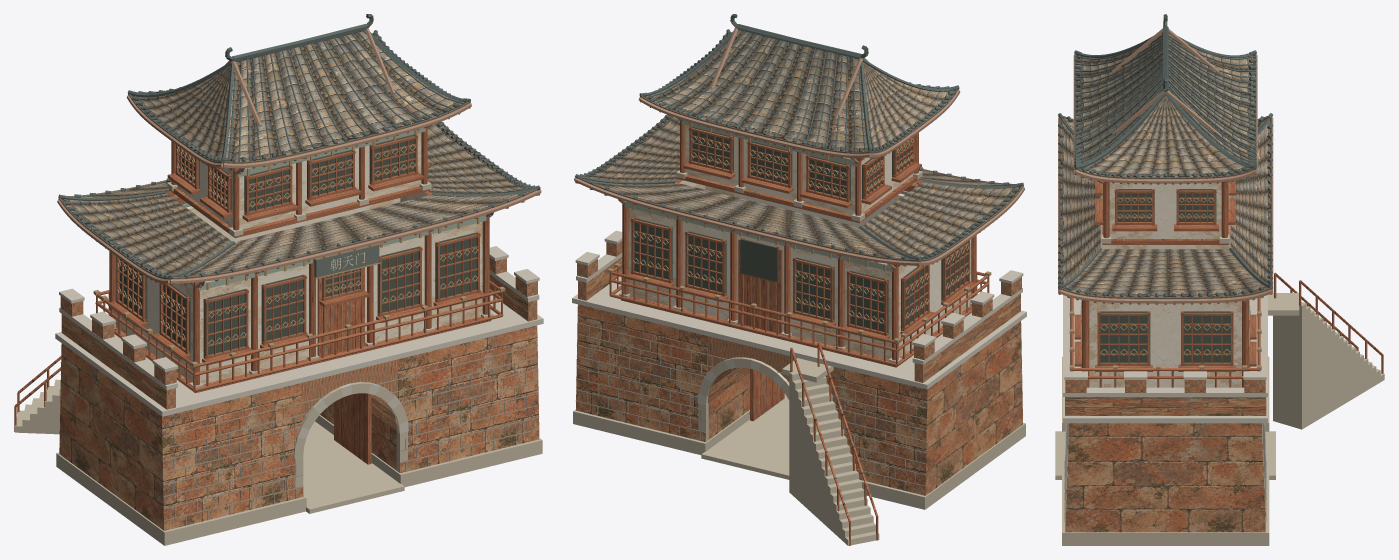
3 views of the same model, side by side, from view 1: azimuth 30°, elevation 25°; view 2: azimuth 150°, elevation 25°; view 3: azimuth 270°, elevation 25° (orthographic). The views are drawn at different scales.
Parts seen in each view (by area): view 1: chaotianmen__painted_city_brick, chaotianmen__painted_cedar, chaotianmen__painted_roof, chaotianmen__warm_limestone, chaotianmen__painted_plaster, chaotianmen__deep_recess, chaotianmen__tile_ridges, chaotianmen__stone_cap, chaotianmen__mortar_ink, chaotianmen__timber_highlight, chaotianmen__chibi_ink, chaotianmen__chibi_celadon (+1 smaller); view 2: chaotianmen__painted_city_brick, chaotianmen__painted_cedar, chaotianmen__painted_roof, chaotianmen__warm_limestone, chaotianmen__deep_recess, chaotianmen__painted_plaster, chaotianmen__tile_ridges, chaotianmen__stone_cap, chaotianmen__mortar_ink, chaotianmen__timber_highlight, chaotianmen__chibi_ink, chaotianmen__chibi_celadon; view 3: chaotianmen__painted_roof, chaotianmen__painted_city_brick, chaotianmen__painted_cedar, chaotianmen__warm_limestone, chaotianmen__tile_ridges, chaotianmen__painted_plaster, chaotianmen__deep_recess, chaotianmen__stone_cap, chaotianmen__chibi_ink, chaotianmen__timber_highlight, chaotianmen__mortar_ink.
Part boxes in pixels (left/top/right/bottom): chaotianmen__painted_city_brick: left=59, top=257, right=539, bottom=530; chaotianmen__painted_cedar: left=14, top=28, right=541, bottom=464; chaotianmen__painted_roof: left=61, top=31, right=529, bottom=276; chaotianmen__warm_limestone: left=15, top=181, right=542, bottom=545; chaotianmen__painted_plaster: left=115, top=133, right=482, bottom=384; chaotianmen__deep_recess: left=119, top=134, right=476, bottom=357; chaotianmen__tile_ridges: left=59, top=14, right=540, bottom=279; chaotianmen__stone_cap: left=55, top=246, right=543, bottom=438; chaotianmen__mortar_ink: left=59, top=345, right=539, bottom=525; chaotianmen__timber_highlight: left=93, top=84, right=505, bottom=366; chaotianmen__chibi_ink: left=58, top=33, right=540, bottom=431; chaotianmen__chibi_celadon: left=182, top=127, right=486, bottom=290; chaotianmen__painted_city_brick: left=576, top=241, right=1022, bottom=495; chaotianmen__painted_cedar: left=574, top=27, right=1024, bottom=545; chaotianmen__painted_roof: left=584, top=30, right=1021, bottom=259; chaotianmen__warm_limestone: left=573, top=170, right=1025, bottom=545; chaotianmen__deep_recess: left=634, top=126, right=966, bottom=334; chaotianmen__painted_plaster: left=628, top=125, right=971, bottom=359; chaotianmen__tile_ridges: left=575, top=14, right=1023, bottom=262; chaotianmen__stone_cap: left=572, top=230, right=1026, bottom=404; chaotianmen__mortar_ink: left=575, top=322, right=1022, bottom=490; chaotianmen__timber_highlight: left=607, top=79, right=991, bottom=343; chaotianmen__chibi_ink: left=575, top=32, right=1023, bottom=414; chaotianmen__chibi_celadon: left=625, top=120, right=908, bottom=272; chaotianmen__painted_roof: left=1060, top=34, right=1270, bottom=296; chaotianmen__painted_city_brick: left=1065, top=380, right=1266, bottom=532; chaotianmen__painted_cedar: left=1058, top=28, right=1383, bottom=387; chaotianmen__warm_limestone: left=1055, top=234, right=1384, bottom=545; chaotianmen__tile_ridges: left=1058, top=14, right=1272, bottom=298; chaotianmen__painted_plaster: left=1089, top=182, right=1241, bottom=387; chaotianmen__deep_recess: left=1097, top=189, right=1233, bottom=362; chaotianmen__stone_cap: left=1063, top=295, right=1267, bottom=433; chaotianmen__chibi_ink: left=1059, top=53, right=1272, bottom=298; chaotianmen__timber_highlight: left=1069, top=95, right=1261, bottom=369; chaotianmen__mortar_ink: left=1064, top=423, right=1266, bottom=522.
Bounding box in the file's own units: 14.22 × 15.31 × 11.12.
Materials: 14 (4 with a texture image).
